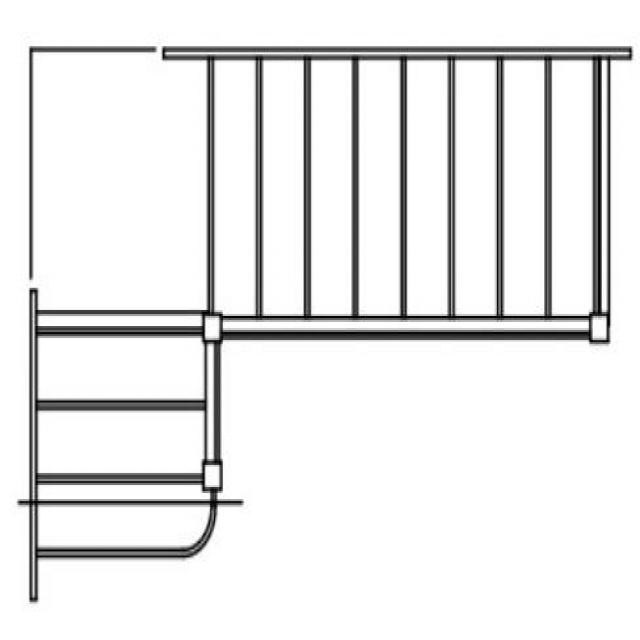stair: (27, 34, 634, 596)
